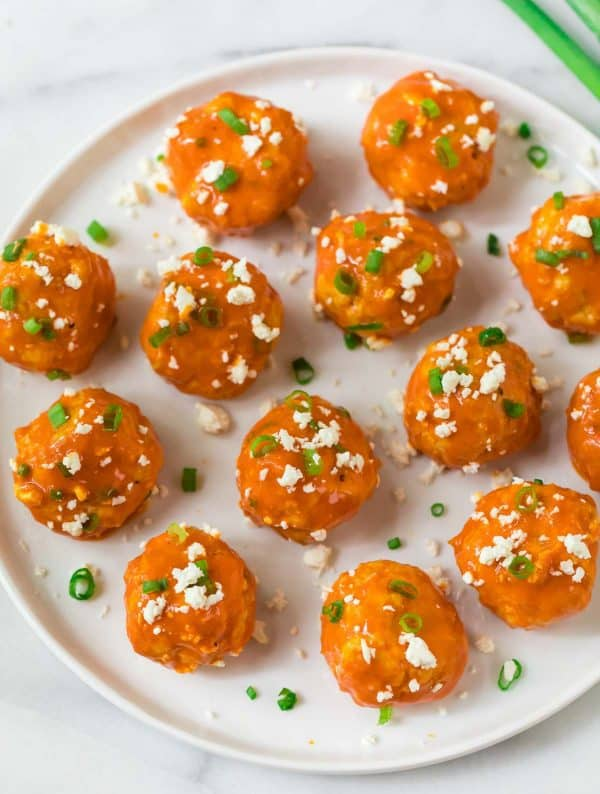meatballs: (132, 265, 281, 400), (309, 569, 460, 701), (238, 395, 370, 533), (127, 531, 254, 669), (21, 400, 150, 531), (167, 106, 303, 229), (472, 478, 600, 608), (365, 78, 496, 201), (311, 199, 441, 316), (1, 239, 123, 359), (412, 339, 528, 456), (522, 199, 600, 321)
